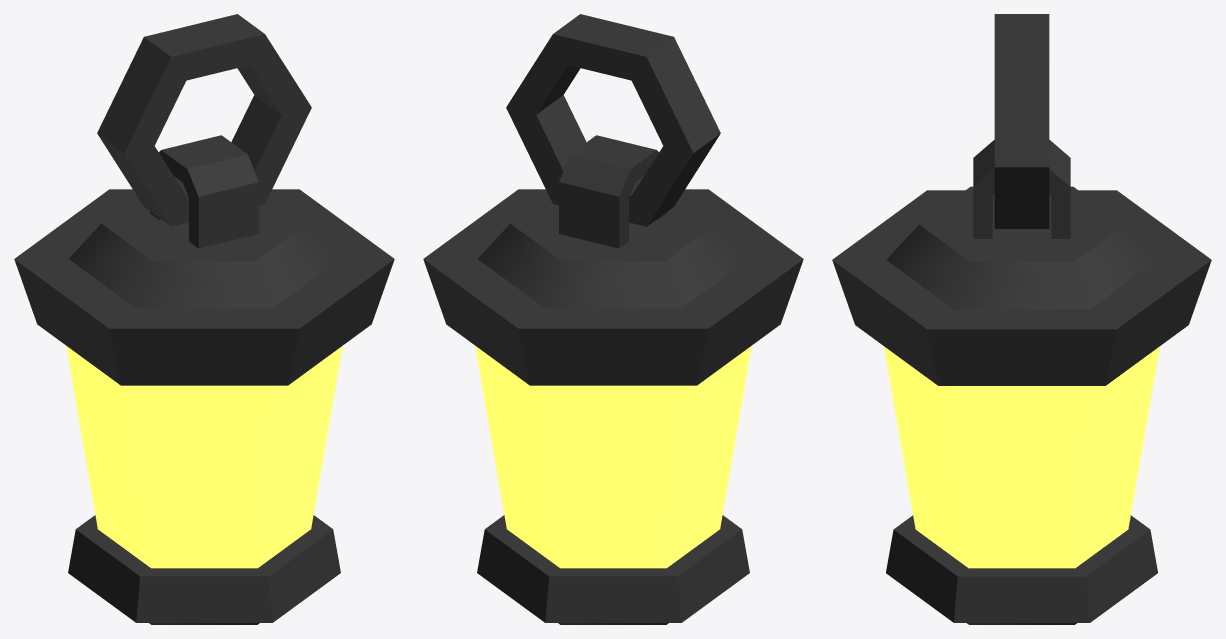
File: SM_PROP_lantern_01.FBX
3 views of the same model, side by side, from view 1: azimuth 30°, elevation 25°; view 2: azimuth 150°, elevation 25°; view 3: azimuth 270°, elevation 25° (orthographic).
Visible parts, largest first — view 1: SM_PROP_lantern_01; view 2: SM_PROP_lantern_01; view 3: SM_PROP_lantern_01.
Part boxes in pixels (bbox=[...]): SM_PROP_lantern_01: bbox=[14, 14, 394, 624]; SM_PROP_lantern_01: bbox=[423, 14, 803, 624]; SM_PROP_lantern_01: bbox=[832, 14, 1211, 624].
Size of the model in its own units: 50.77 by 58.62 by 93.62.
